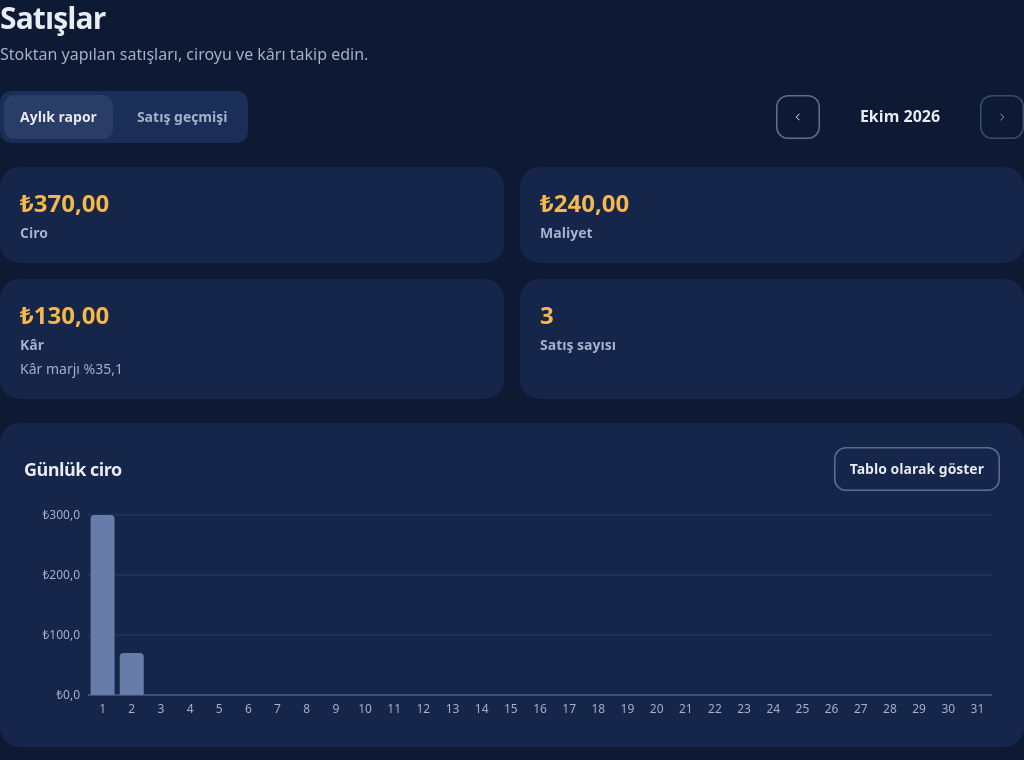
Test case: SalesReportPage › önceki aya geçer; gelecek aya geçilemez; boş ay bildirilir
The width and height of the screenshot is (1024, 760).
Check: the button named "Sonraki ay" is disabled, box [980,95,1023,139]
Step 1. Click the button named "Önceki ay" → (798, 117), box [776,95,820,139]
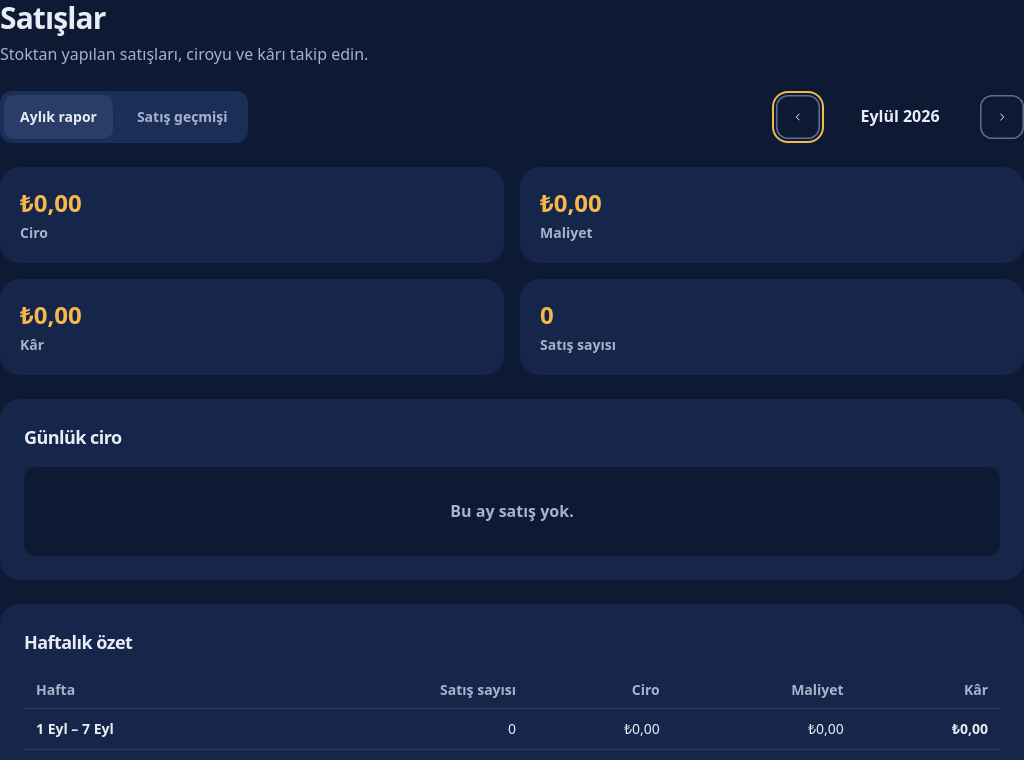
Check: the text "Bu ay satış yok." is shown, box [24,467,1000,556]
Check: the button named "Sonraki ay" is enabled, box [980,95,1023,139]
